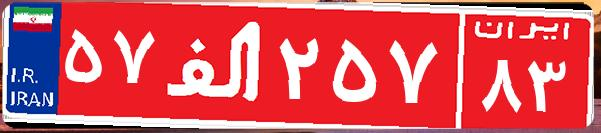2: (273, 28, 330, 110)
3: (525, 38, 570, 115)
5: (330, 28, 385, 110), (57, 26, 110, 107)
7: (385, 28, 445, 110), (110, 28, 158, 105)
8: (475, 38, 525, 113)
الف: (158, 15, 273, 115)
